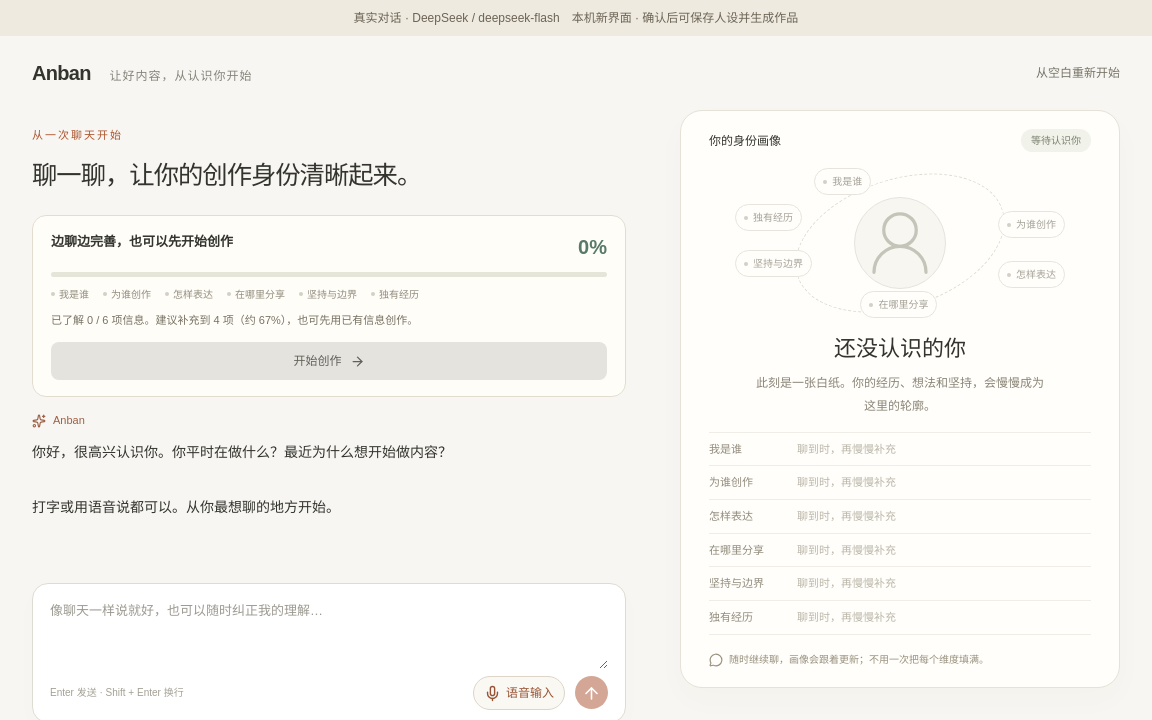
Test: live model-backed portrait onboarding › maps free text to sourced portrait fields and does not show scripted sample answers
(page scrolled)
Expected: the text "真实对话 · DeepSeek / deepseek-flash" is shown, left=354, top=9, right=560, bottom=27
Type "我叫小林，开花店，面向上班族，先做公众号。" into the text box at x=329, y=634, box left=50, top=599, right=608, bottom=669
(page scrolled)
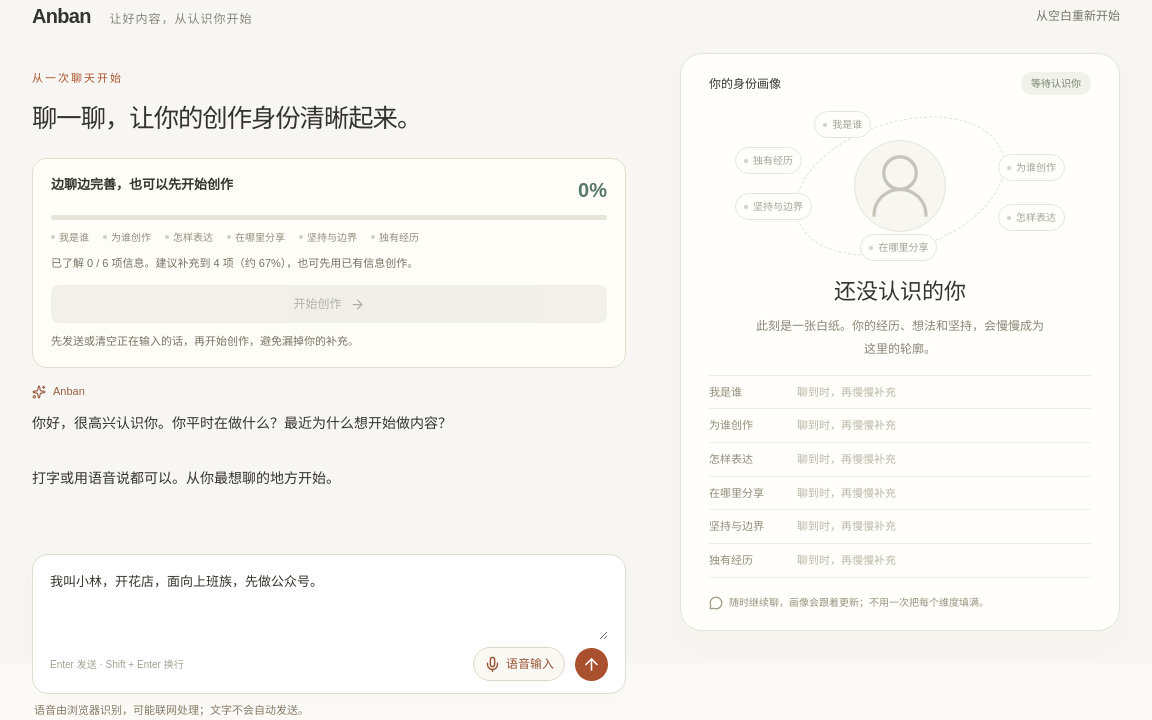
Click the button named "发送消息" at x=592, y=664, box left=575, top=648, right=608, bottom=680
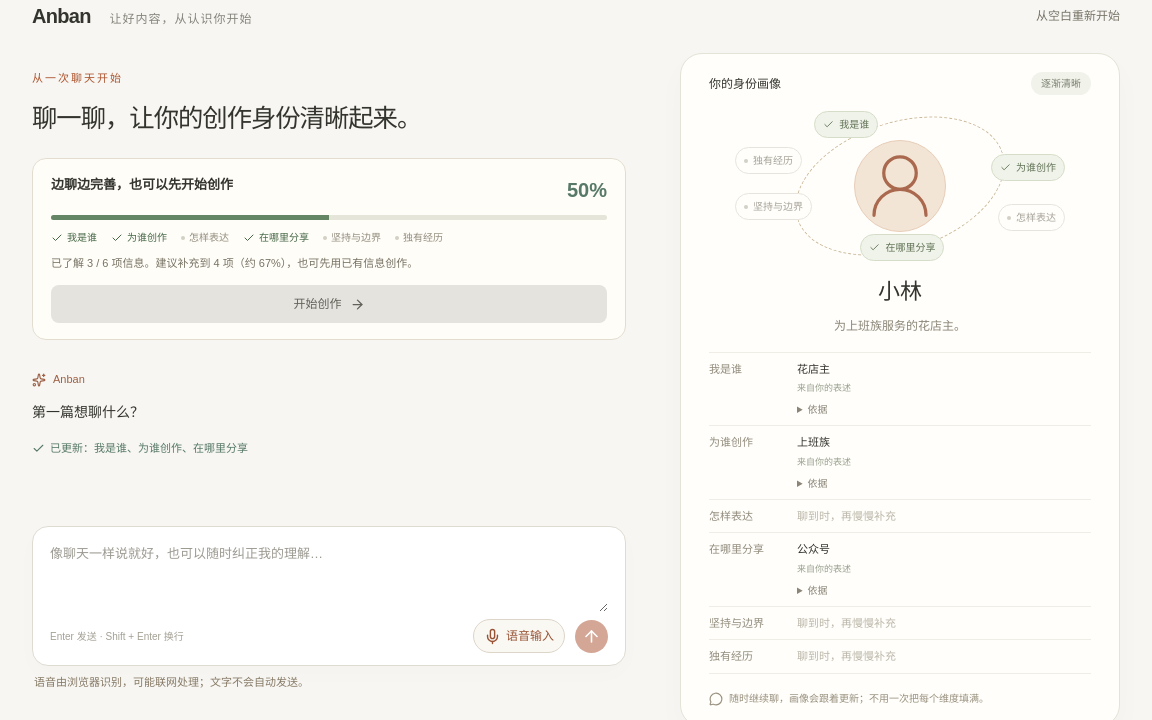
Now the text box is empty, box left=50, top=542, right=608, bottom=612
Now the text "上班族" is shown, box left=797, top=436, right=830, bottom=448
Now the text "来自你的表述" is shown 3 times, box left=797, top=384, right=851, bottom=394; left=797, top=457, right=851, bottom=467; left=797, top=564, right=851, bottom=574
